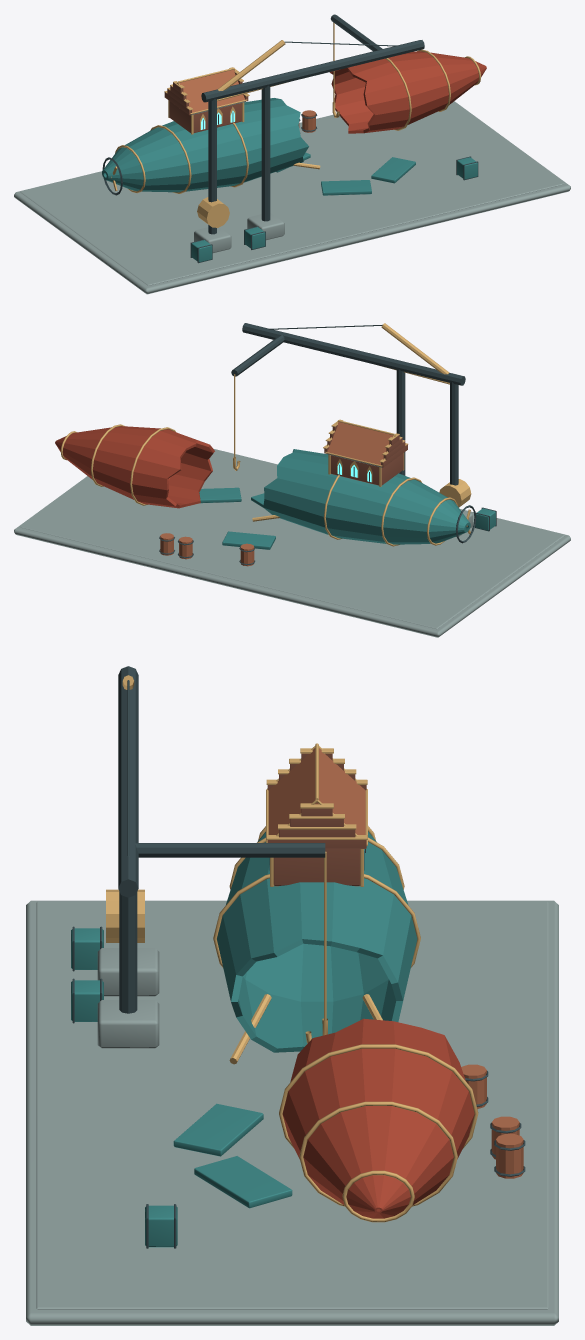
File: site-salvage.glb
The picture shows the model from 3 angles, top to bottom: view 1: azimuth 30°, elevation 25°; view 2: azimuth 150°, elevation 25°; view 3: azimuth 270°, elevation 25°; orthographic projection. The views are drawn at different scales.
Visible parts, largest first — view 1: site-salvage / Masonry | weathered Baltic limestone, site-salvage / Paint | Hanse merchant petrol, Broken colossal bow, site-salvage / Hull | charcoal iron, site-salvage / Fittings | worn maritime brass, site-salvage / Copper | fired red roof, site-salvage / Masonry | deep Hanseatic brick; view 2: site-salvage / Masonry | weathered Baltic limestone, site-salvage / Paint | Hanse merchant petrol, Broken colossal bow, site-salvage / Hull | charcoal iron, site-salvage / Fittings | worn maritime brass, site-salvage / Copper | fired red roof, site-salvage / Masonry | deep Hanseatic brick; view 3: site-salvage / Masonry | weathered Baltic limestone, site-salvage / Paint | Hanse merchant petrol, Broken colossal bow, site-salvage / Hull | charcoal iron, site-salvage / Fittings | worn maritime brass, site-salvage / Copper | fired red roof, site-salvage / Masonry | deep Hanseatic brick.
Part boxes in pixels (x1,y1,x2,y2): site-salvage / Masonry | weathered Baltic limestone: (14,101,570,294); site-salvage / Paint | Hanse merchant petrol: (102,98,477,262); Broken colossal bow: (330,51,486,133); site-salvage / Hull | charcoal iron: (102,14,478,263); site-salvage / Fittings | worn maritime brass: (111,22,480,227); site-salvage / Copper | fired red roof: (178,69,315,132); site-salvage / Masonry | deep Hanseatic brick: (164,72,248,132); site-salvage / Masonry | weathered Baltic limestone: (14,448,570,637); site-salvage / Paint | Hanse merchant petrol: (199,449,495,549); Broken colossal bow: (55,426,214,508); site-salvage / Hull | charcoal iron: (159,323,496,565); site-salvage / Fittings | worn maritime brass: (60,323,471,546); site-salvage / Copper | fired red roof: (160,422,394,566); site-salvage / Masonry | deep Hanseatic brick: (324,425,407,485); site-salvage / Masonry | weathered Baltic limestone: (26,900,558,1325); site-salvage / Paint | Hanse merchant petrol: (71,831,417,1247); Broken colossal bow: (282,1018,474,1218); site-salvage / Hull | charcoal iron: (72,666,525,1248); site-salvage / Fittings | worn maritime brass: (106,675,478,1222); site-salvage / Copper | fired red roof: (268,748,523,1178); site-salvage / Masonry | deep Hanseatic brick: (267,753,366,886).
Size of the model in its own units: 24.1 by 10.64 by 13.
